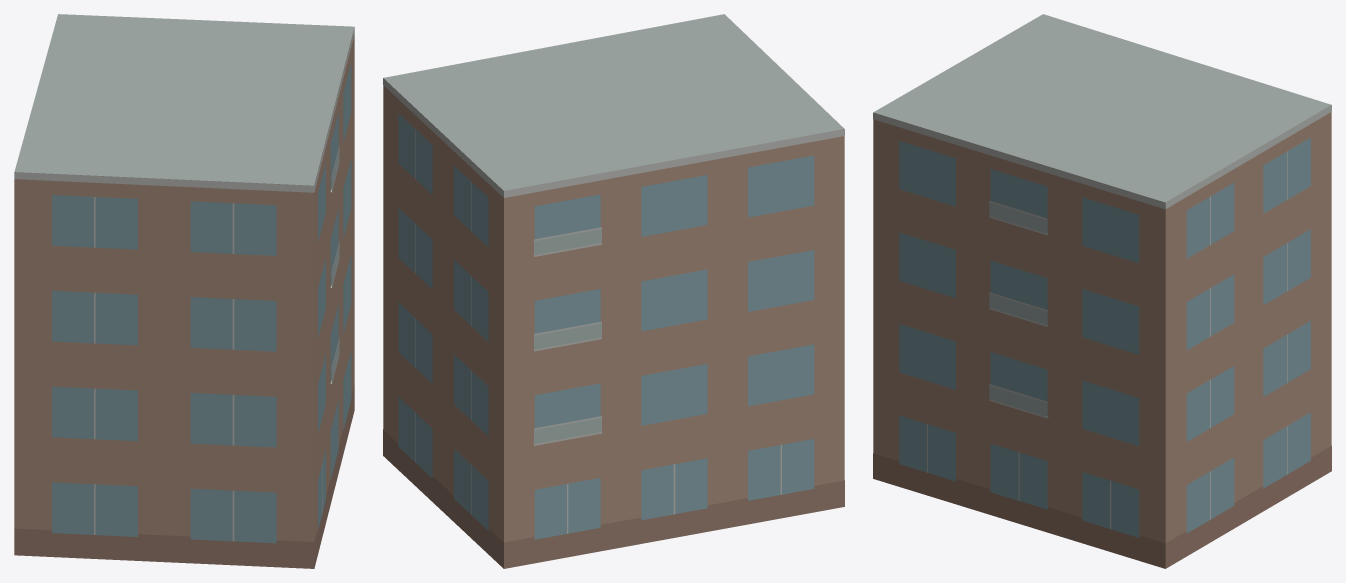
Rendered from survey-upis-32806623.glb.
3 views of the same model, side by side, from view 1: azimuth 30°, elevation 25°; view 2: azimuth 150°, elevation 25°; view 3: azimuth 270°, elevation 25° (orthographic). The views are drawn at different scales.
Parts seen in each view (by area): view 1: survey-upis-32806623.tmp; view 2: survey-upis-32806623.tmp; view 3: survey-upis-32806623.tmp.
Boxes of the visible parts, <box> form: survey-upis-32806623.tmp: <box>14,14,354,568</box>; survey-upis-32806623.tmp: <box>383,14,844,568</box>; survey-upis-32806623.tmp: <box>873,14,1331,568</box>.
Size of the model in its own units: 14.47 by 13.1 by 14.87.
